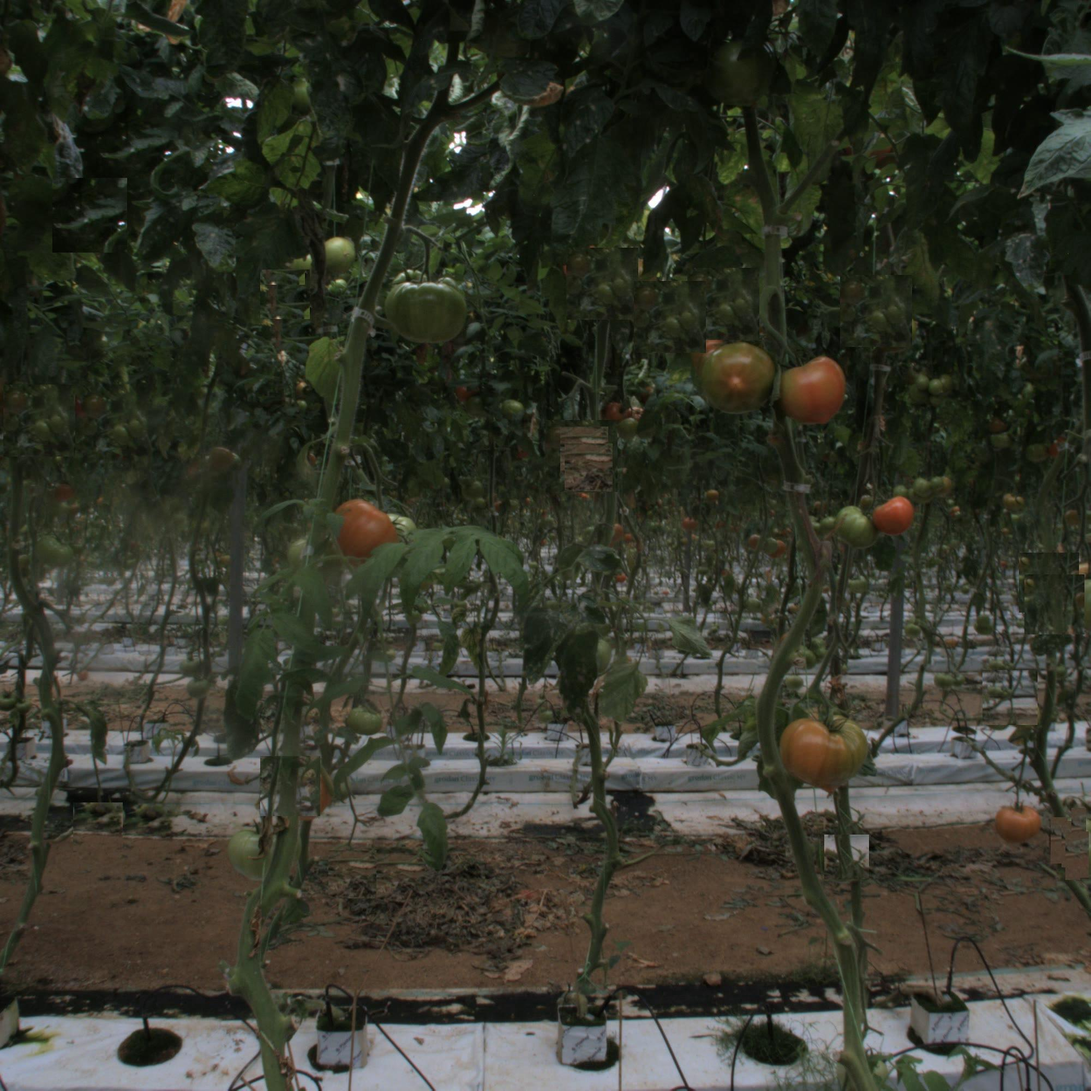fully-ripe: (771, 352, 846, 426), (325, 494, 399, 568), (997, 800, 1042, 846), (871, 493, 916, 539)
semi-ripe: (783, 706, 866, 789), (701, 340, 775, 415)
unripe: (383, 262, 466, 345), (702, 35, 776, 109), (226, 828, 286, 888), (314, 230, 363, 279), (834, 508, 879, 554)
